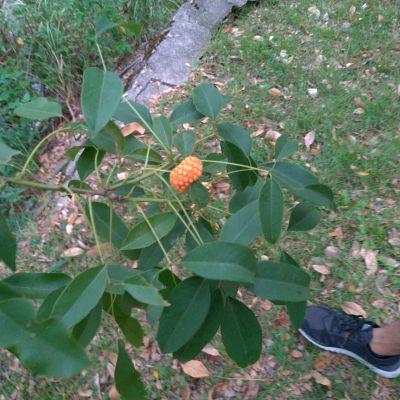eggs: (166, 155, 206, 192)
